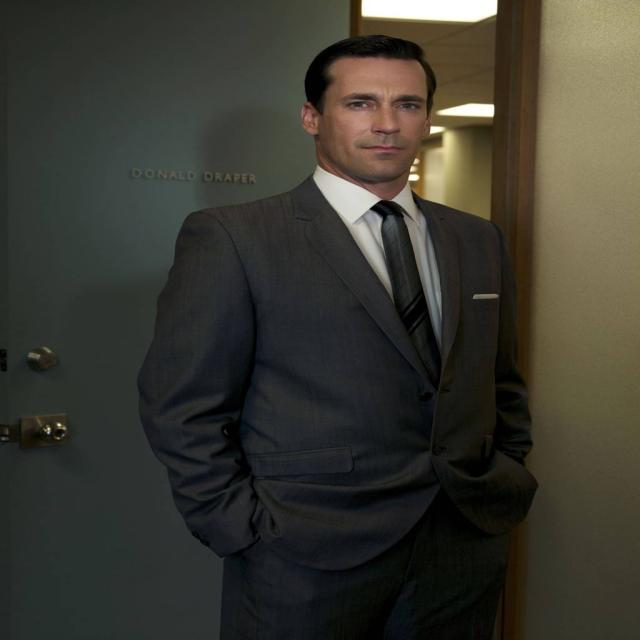human: (112, 42, 562, 640)
